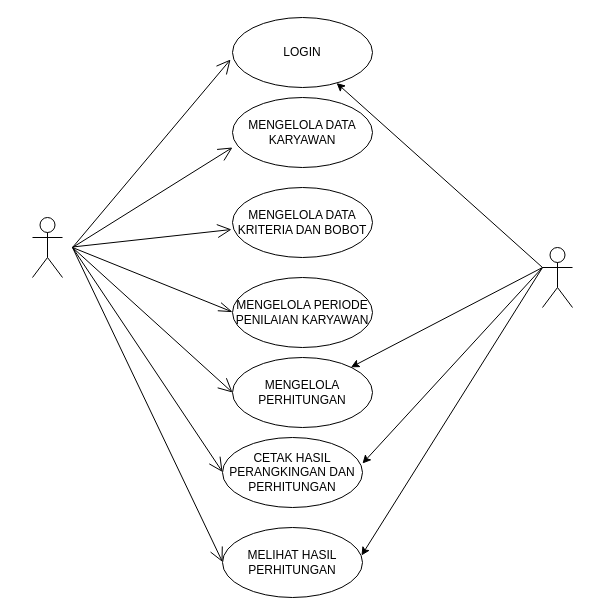
Image size: 608x615. Some labels were removed from this diagram. The box of each missing label's shape, as (x1, y1, x2, y2) in pixels:
KARYAWAN: (542, 246, 572, 308)
MANAGER: (32, 216, 62, 278)
